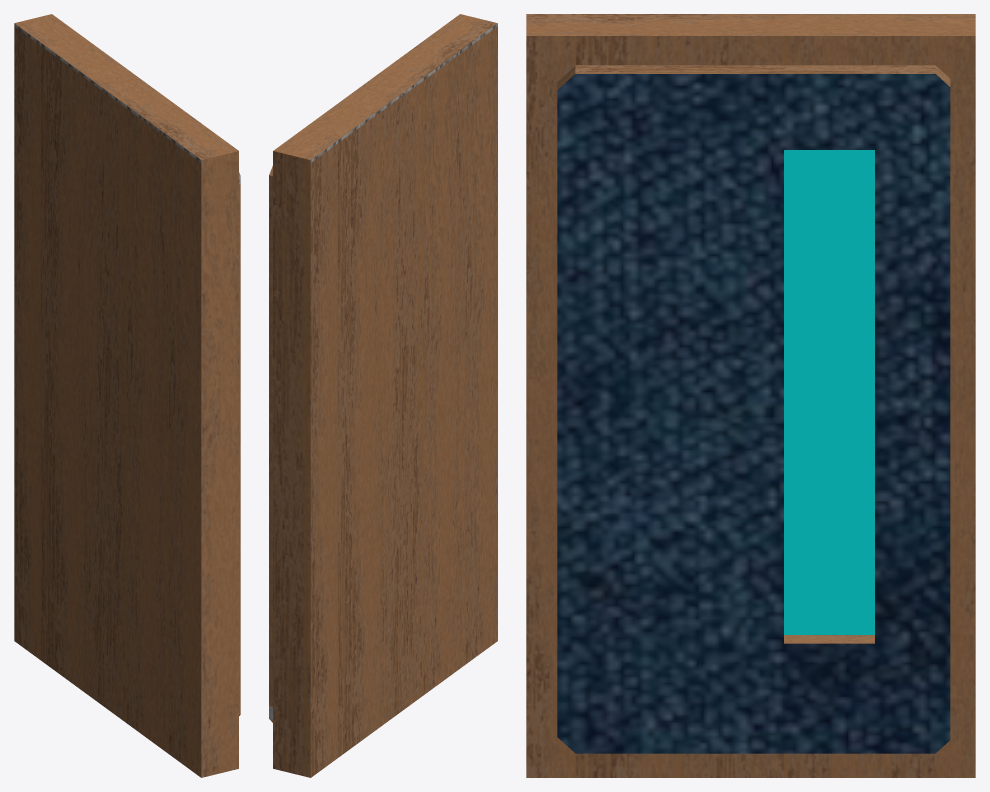
The model's file is door.fbx.
3 views of the same model, side by side, from view 1: azimuth 30°, elevation 25°; view 2: azimuth 150°, elevation 25°; view 3: azimuth 270°, elevation 25° (orthographic). The views are drawn at different scales.
Visible parts, largest first — view 1: Door; view 2: Door; view 3: Door.
Part boxes in pixels (x1=…): Door: x1=14, y1=14, x2=240, y2=777; Door: x1=269, y1=14, x2=497, y2=777; Door: x1=526, y1=14, x2=975, y2=777.
Bounding box in the file's own units: 1.7 × 19.19 × 10.53.
2 materials, 1 textured.
